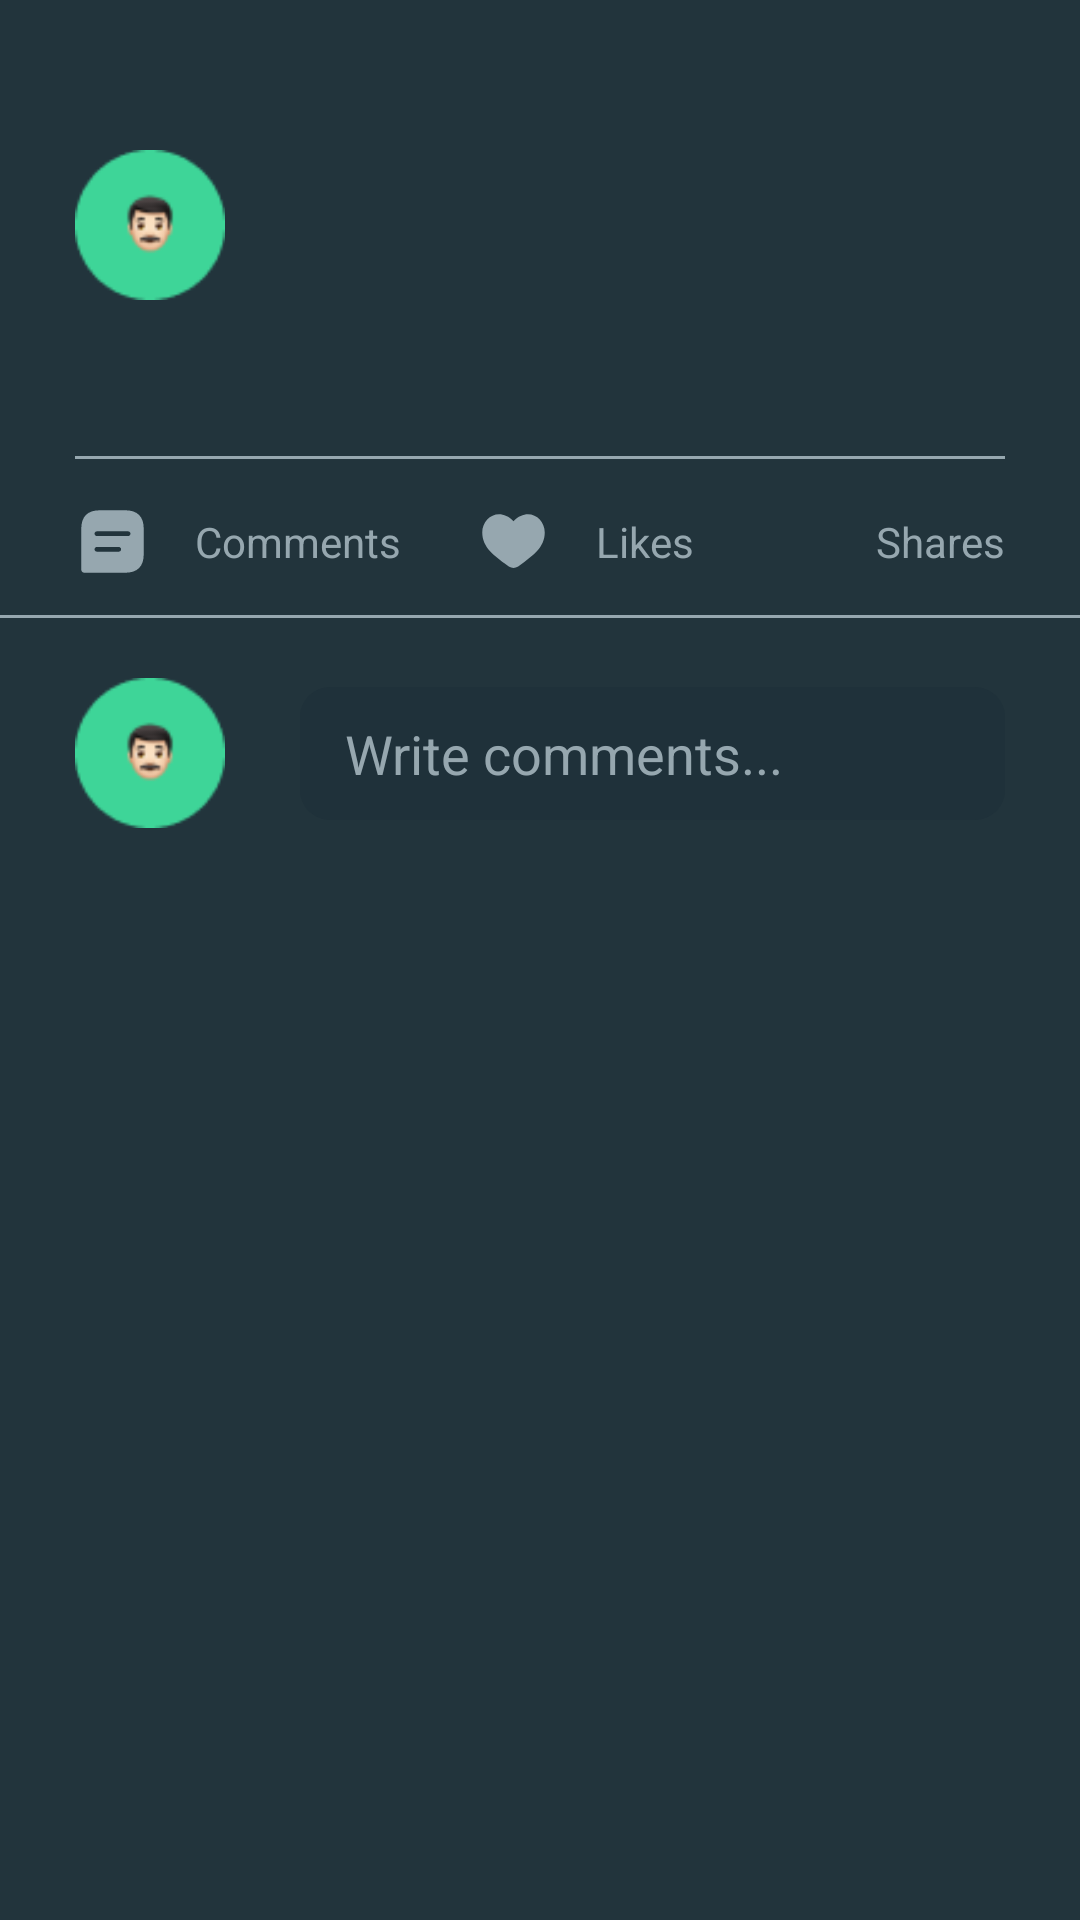

Point at icon controls on the screen. Image size 1080 × 1920, points as [x,y].
heart: [513,541]
message: [112,541]
user: [150,225], [150,753]
